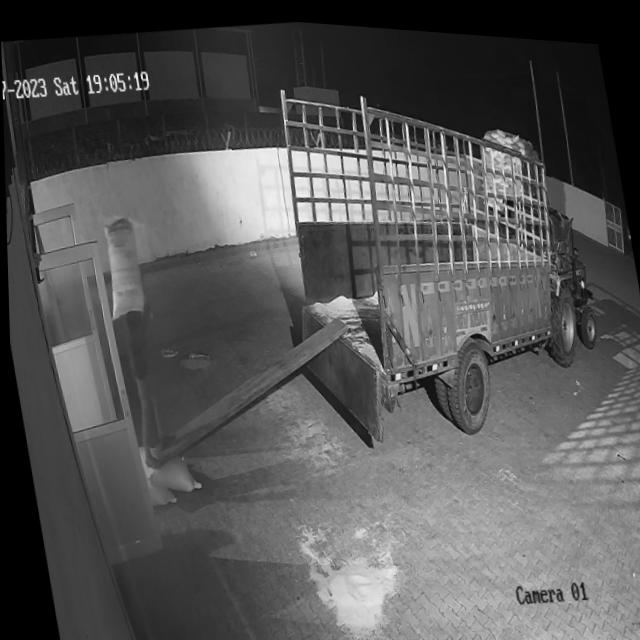sack: (94, 213, 148, 322), (142, 452, 199, 494)
